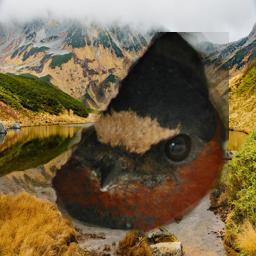Swallow: (50, 32, 229, 236)
